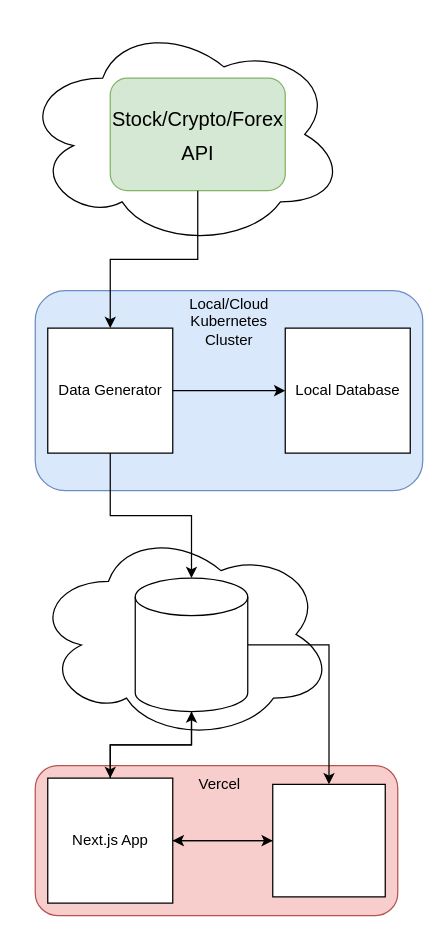
The diagram is 445 pixels wide and 938 high, and some of its shapes have lost their labels. Here are the shapes that lost their labels. From the top down, the centre of each, then its label:
At point (191, 644): "PlanetScaleDB or Supabase".
At point (328, 840): "Serverless Functions".
